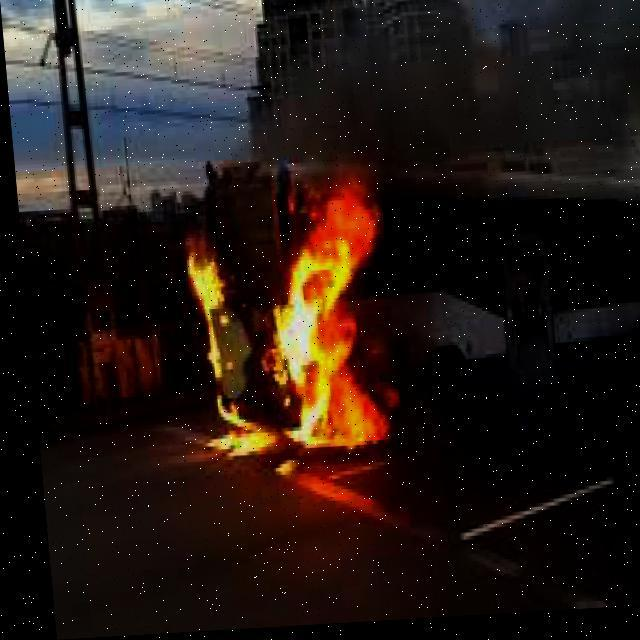Fire: (162, 170, 398, 471)
